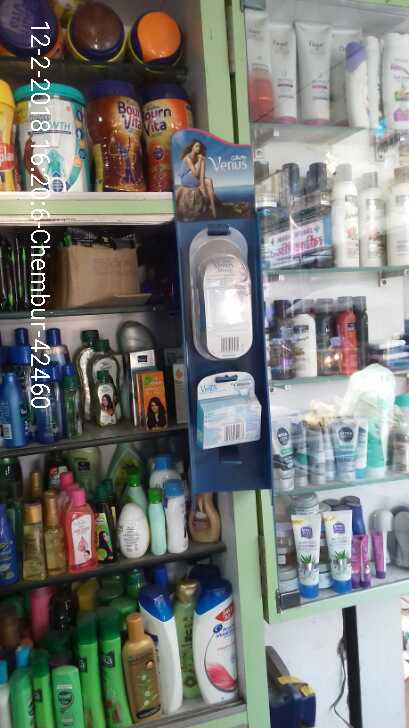reject: (117, 231, 227, 374)
